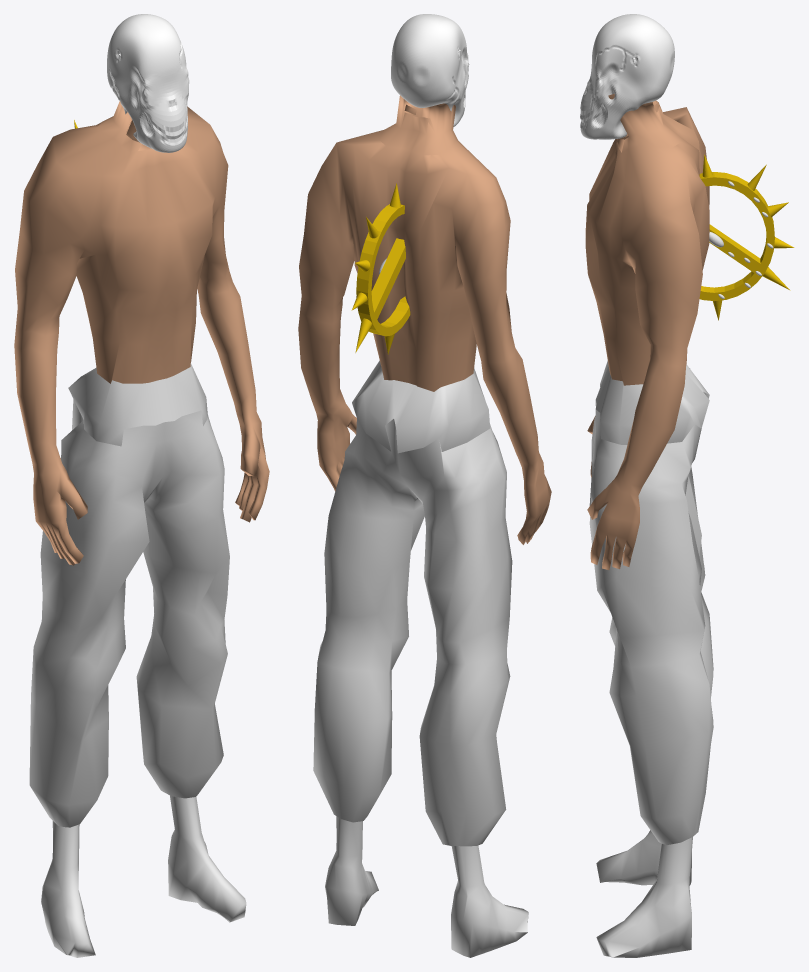
Rendered from Enemigo1.fbx.
3 views of the same model, side by side, from view 1: azimuth 30°, elevation 25°; view 2: azimuth 150°, elevation 25°; view 3: azimuth 270°, elevation 25° (orthographic).
Visible parts, largest first — view 1: Cubo.001, Cubo, Cubo.002, Cubo.003; view 2: Cubo.001, Cubo, Cubo.002, Cubo.003, Circle; view 3: Cubo.001, Cubo, Cubo.002, Cubo.003, Circle.
Part boxes in pixels (x1=…): Cubo.001: x1=29, y1=363, x2=229, y2=827; Cubo: x1=14, y1=101, x2=269, y2=565; Cubo.002: x1=41, y1=795, x2=246, y2=957; Cubo.003: x1=107, y1=14, x2=189, y2=152; Cubo.001: x1=313, y1=360, x2=512, y2=846; Cubo: x1=298, y1=95, x2=551, y2=544; Cubo.002: x1=325, y1=816, x2=528, y2=957; Cubo.003: x1=391, y1=14, x2=469, y2=127; Circle: x1=351, y1=183, x2=410, y2=354; Cubo.001: x1=589, y1=361, x2=713, y2=844; Cubo: x1=585, y1=93, x2=709, y2=569; Cubo.002: x1=596, y1=830, x2=692, y2=957; Cubo.003: x1=580, y1=14, x2=674, y2=139; Circle: x1=699, y1=154, x2=794, y2=320.
Size of the model in its own units: 150 by 586 by 127.
